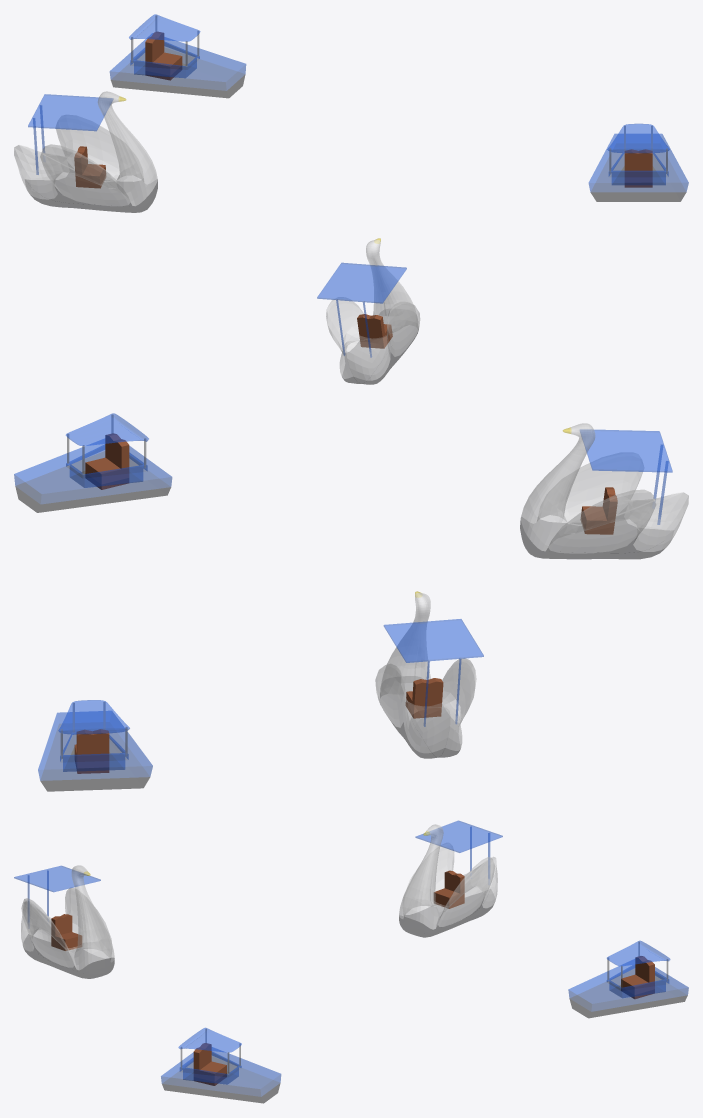
Rendered from Boat.fbx.
The picture shows the model from 3 angles, top to bottom: view 1: azimuth 30°, elevation 25°; view 2: azimuth 150°, elevation 25°; view 3: azimuth 270°, elevation 25°; orthographic projection. The views are drawn at different scales.
Visible parts, largest first — view 1: 4Boat; view 2: 4Boat; view 3: 4Boat.
Part boxes in pixels (<box>): 4Boat: <box>14,14,688,384</box>; 4Boat: <box>14,413,688,791</box>; 4Boat: <box>14,820,688,1103</box>.
Bounding box in the file's own units: 2928 × 725 × 3746.
